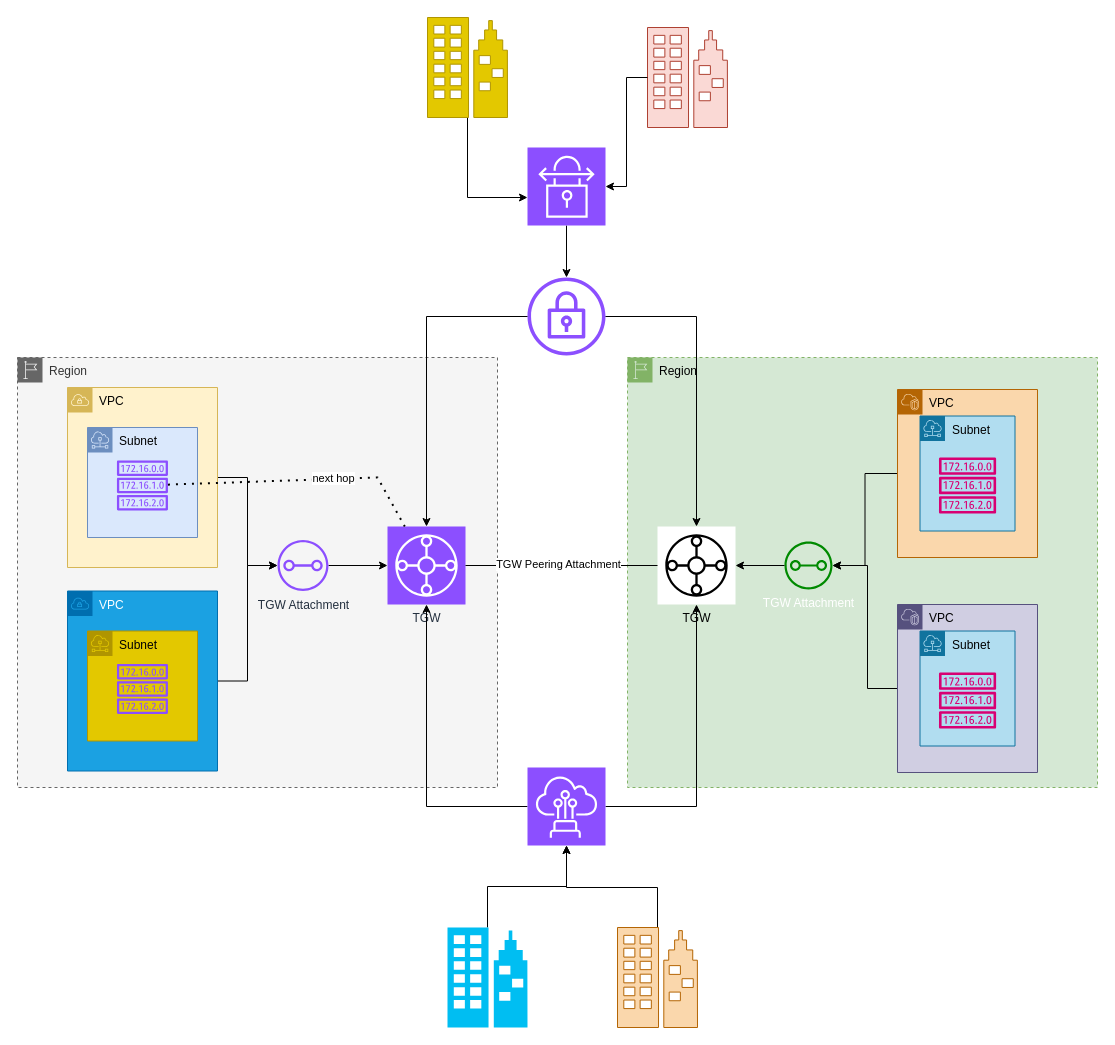
The diagram is 1115 pixels wide and 1045 high, and some of its shapes have lost their labels. Each missing label, with the centre of its shape:
"Direct Connection" belongs at point 566,806.
"VPN GW" belongs at point 566,316.
